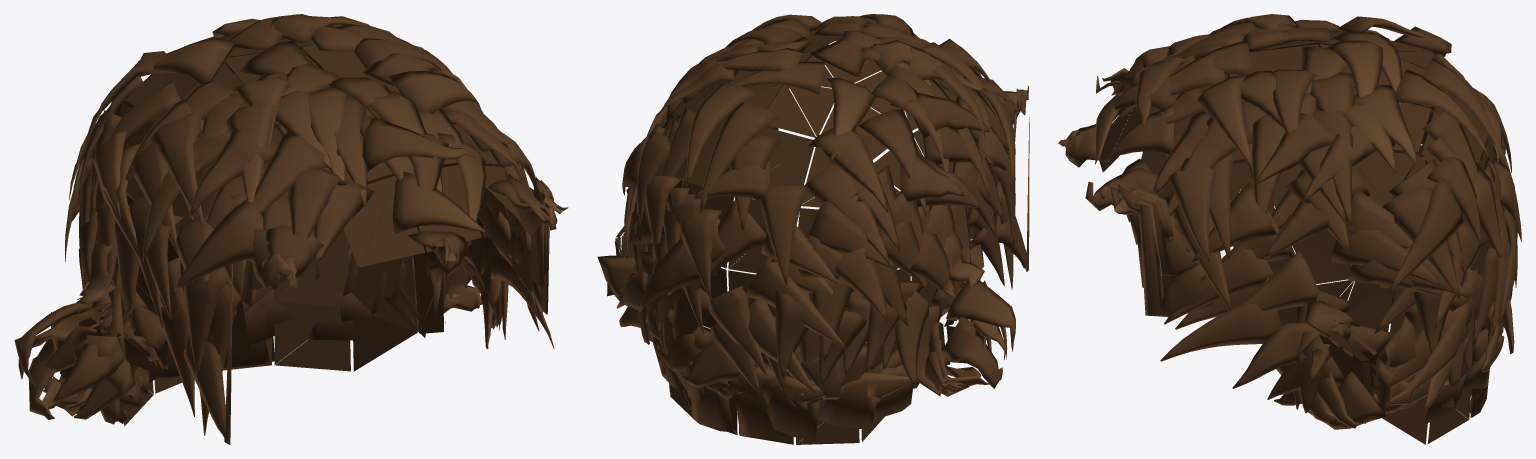
Rendered from kopf.haar.zerzaust.glb.
The picture shows the model from 3 angles, left to right: view 1: azimuth 30°, elevation 25°; view 2: azimuth 150°, elevation 25°; view 3: azimuth 270°, elevation 25°; orthographic projection. The views are drawn at different scales.
Visible parts, largest first — view 1: haar; view 2: haar; view 3: haar.
Boxes of the visible parts, x1,y1,x2,y2 form: haar: (14, 14, 568, 444); haar: (597, 14, 1029, 444); haar: (1058, 14, 1521, 444).
Bounding box in the file's own units: 0.2527 × 0.2034 × 0.2374.
